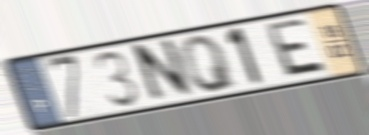1: (224, 24, 267, 88)
3: (95, 49, 142, 110)
7: (45, 53, 84, 122)
E: (264, 16, 331, 80)
N: (132, 36, 196, 107)
Q: (177, 32, 241, 95)
